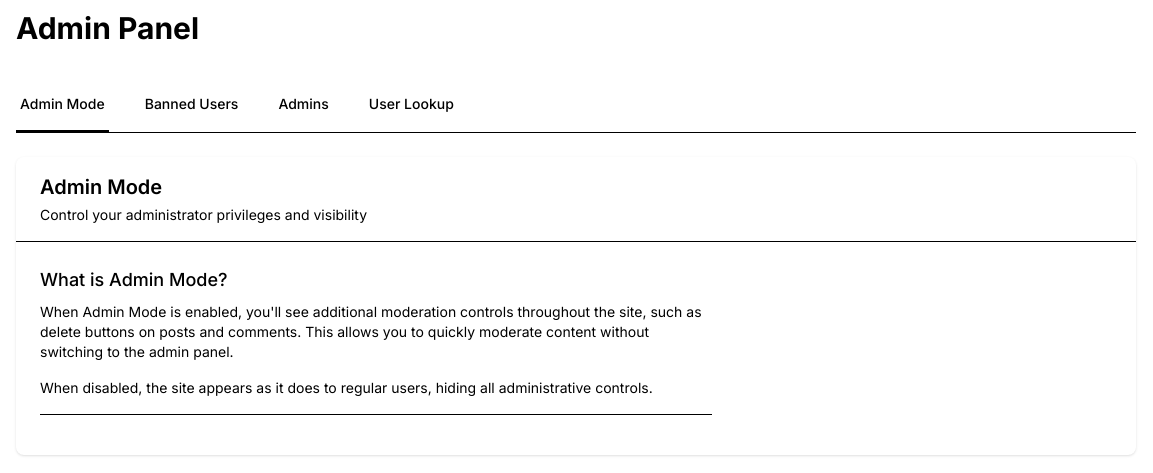
AdminPage › Banned Users Tab › displays error state when API fails
// Click on Banned Users tab
Step 1. Click the button "Banned Users" → (192, 105), box [141,78,242,132]
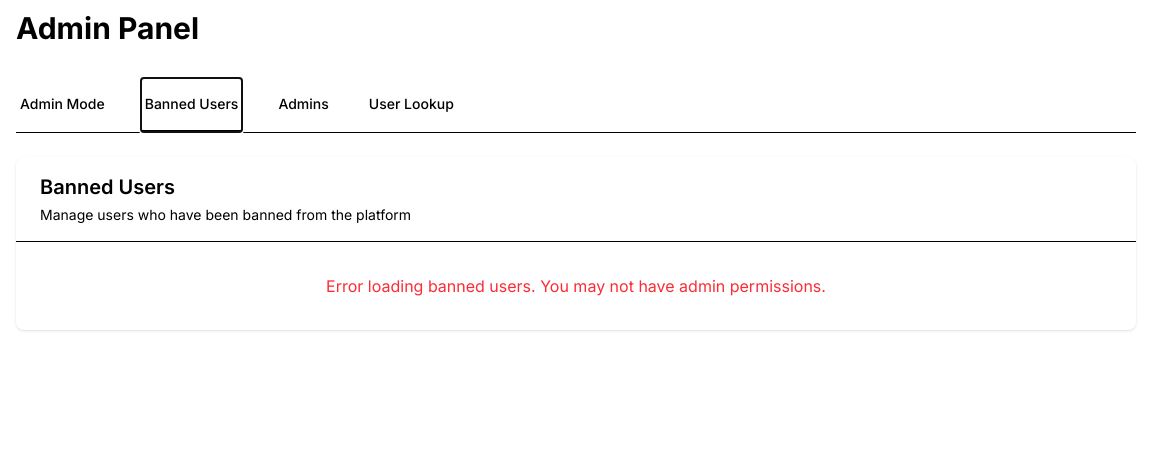
Result: the text "Error loading banned users" is shown at [326,276,826,296]
